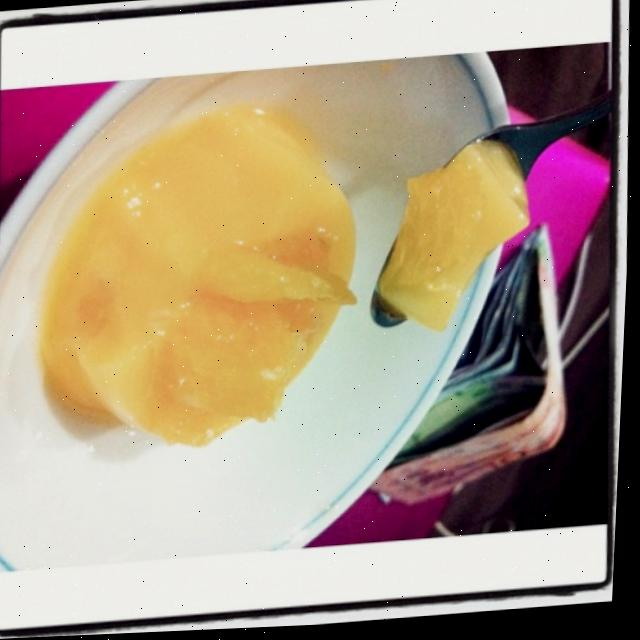蛋糕甜品: (0, 35, 571, 592)
